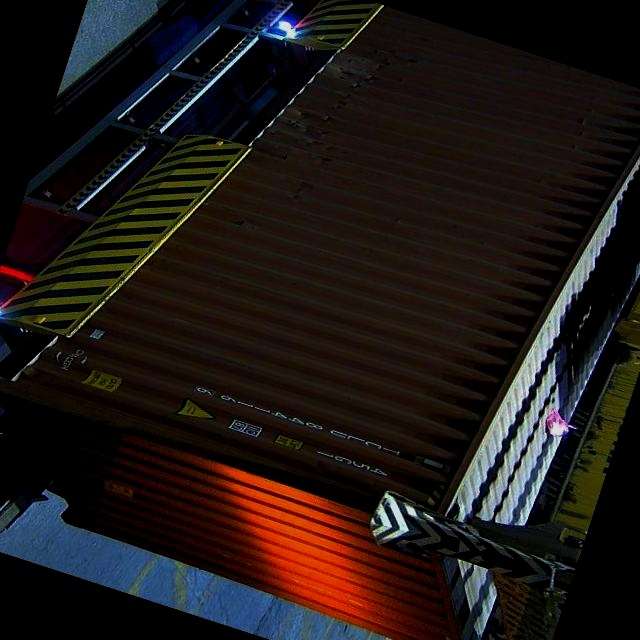Dent: (317, 37, 402, 117), (257, 96, 343, 172)
